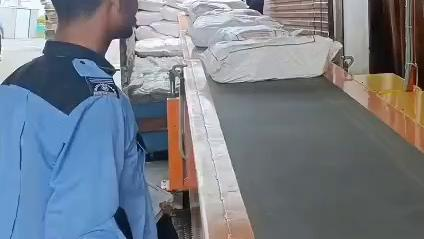box: (201, 35, 341, 83), (200, 25, 289, 45)
